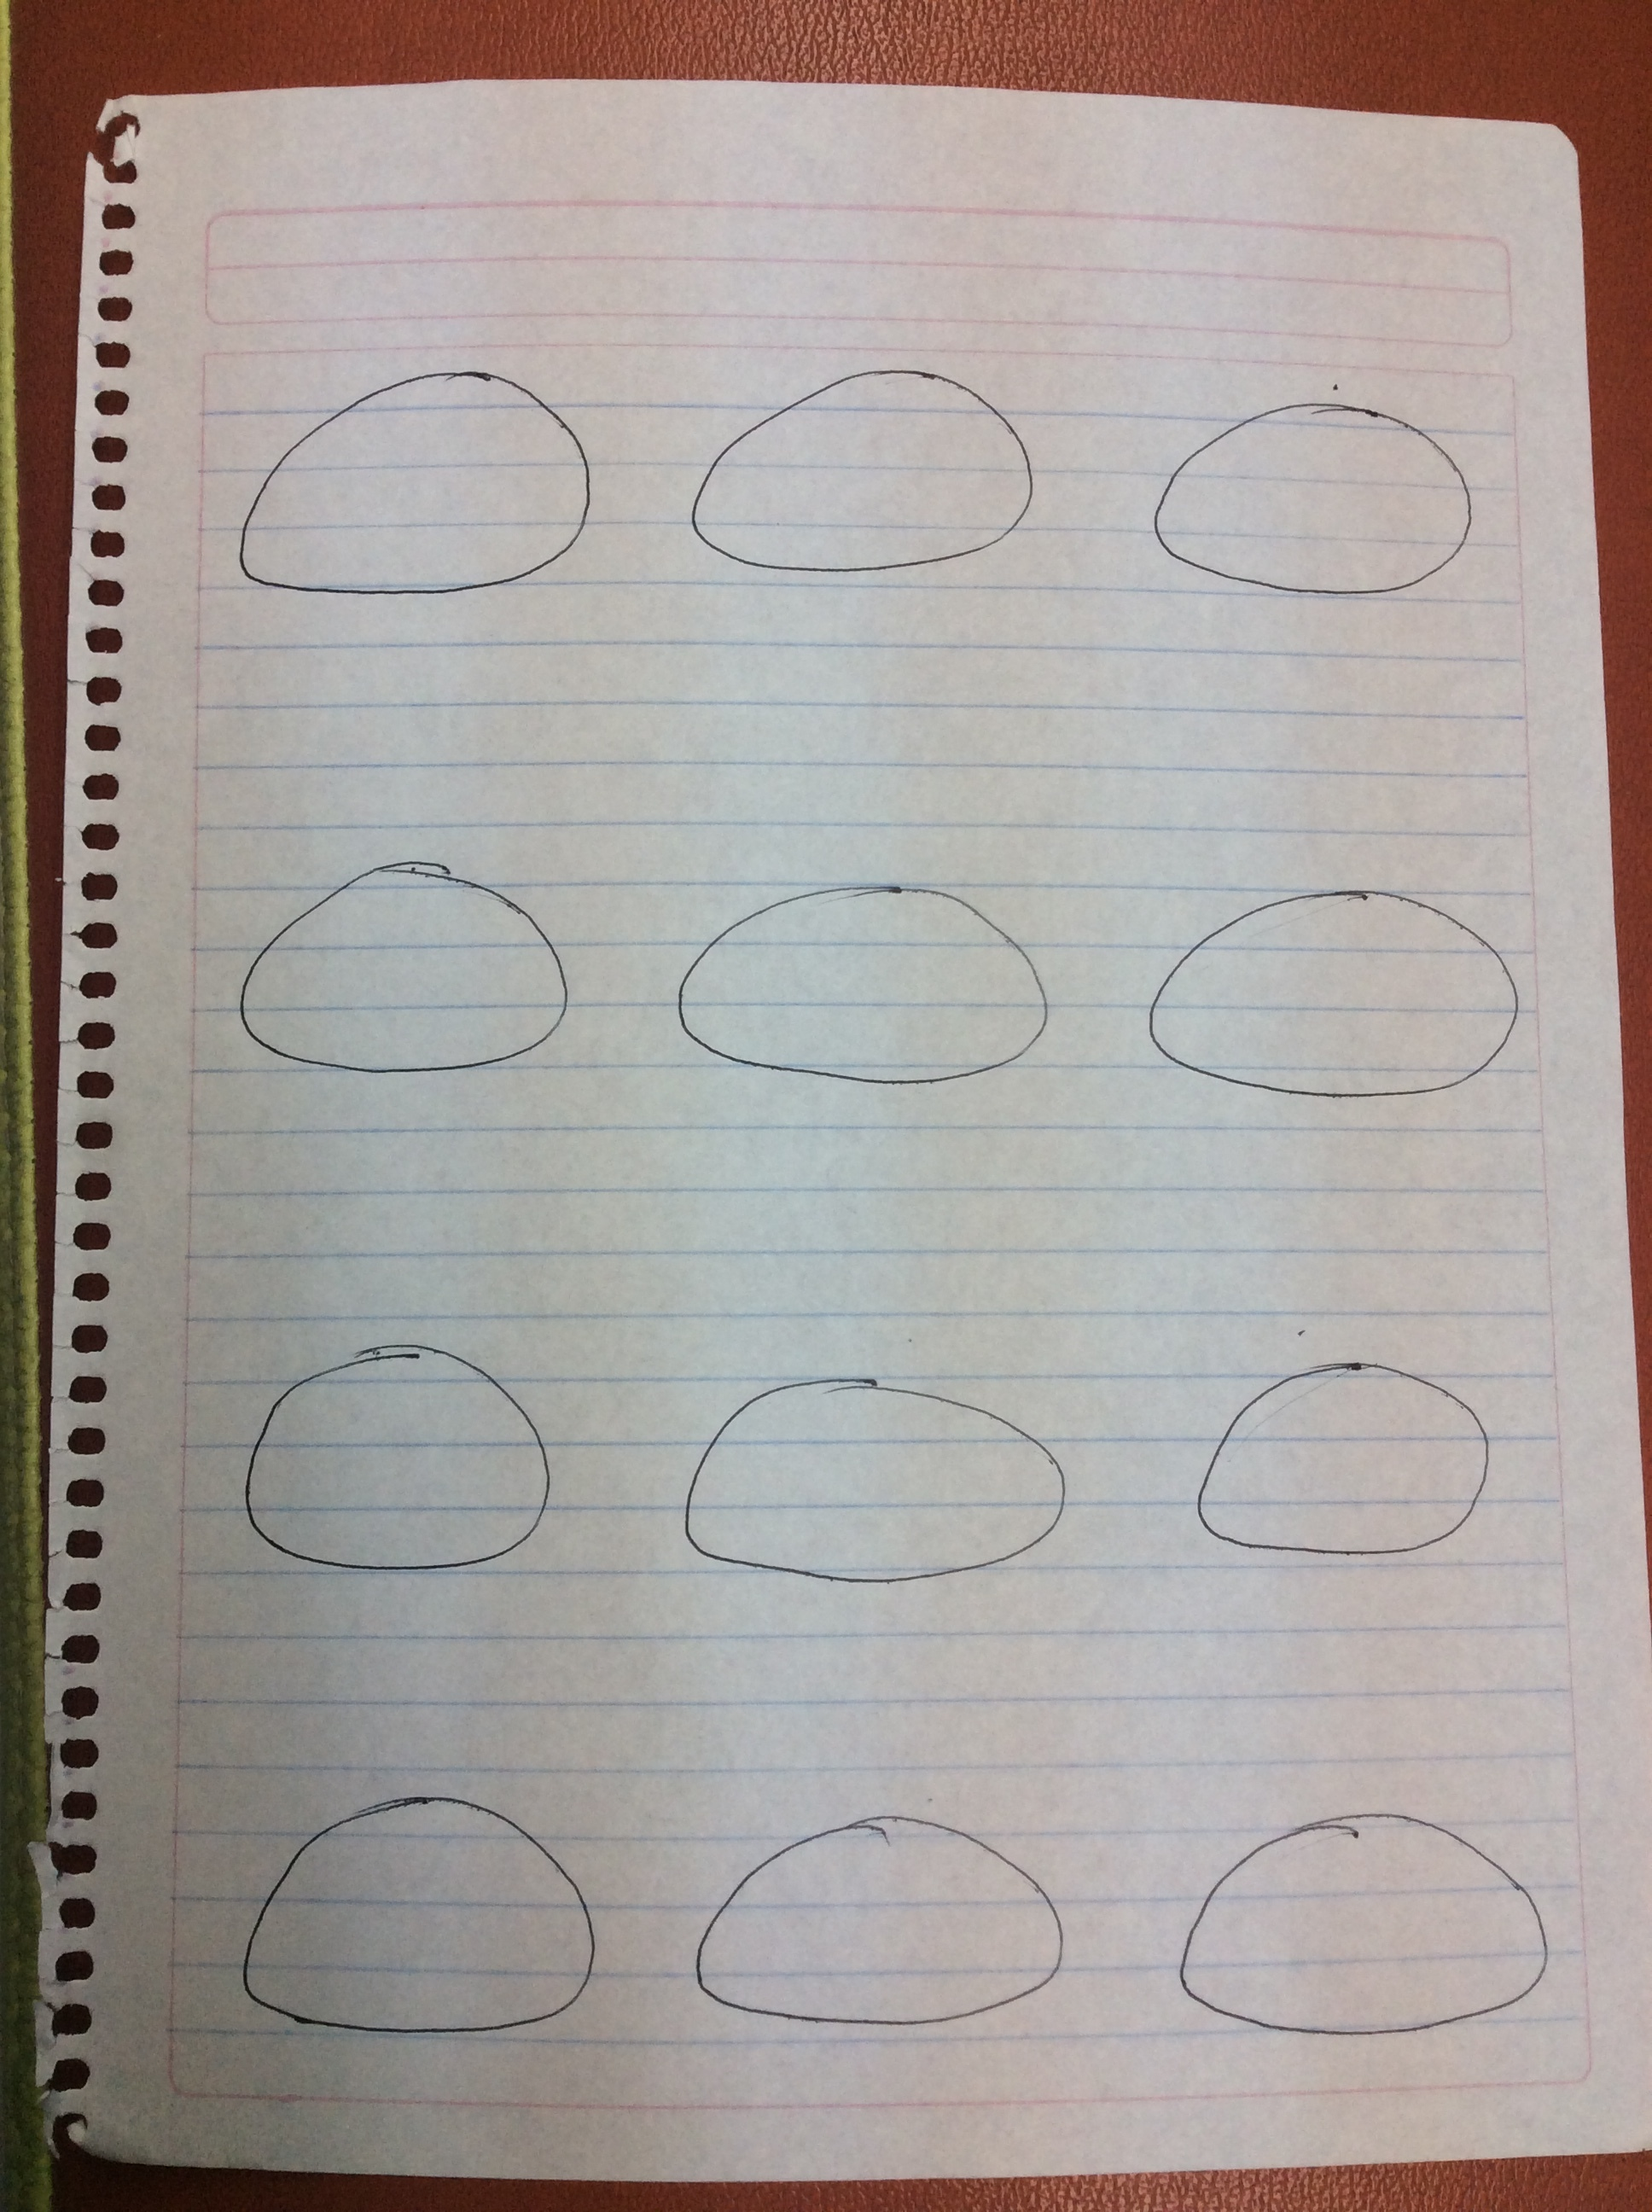start_end: (182, 1757, 619, 2075), (1142, 1785, 1576, 2061), (661, 1771, 1085, 2052), (647, 1341, 1097, 1605), (640, 836, 1074, 1109), (203, 356, 644, 618), (1124, 854, 1537, 1126), (182, 1317, 567, 1598), (668, 328, 1053, 597), (200, 833, 585, 1093), (1131, 368, 1503, 621), (1149, 1341, 1524, 1587)
